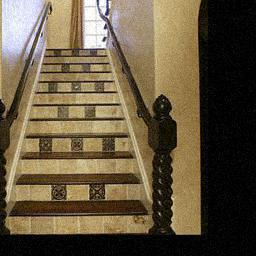Escaleras: (0, 46, 176, 232)
